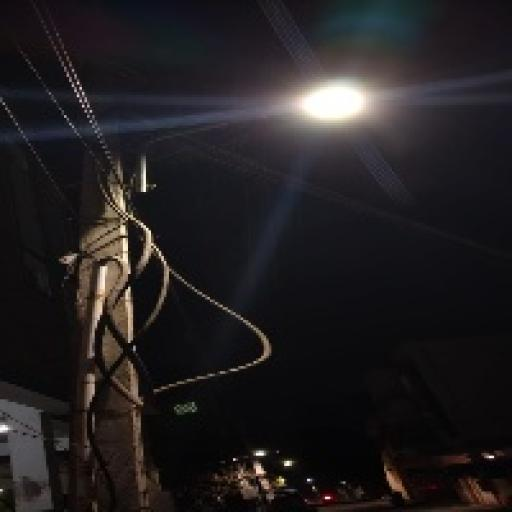Working: (288, 76, 381, 131)
